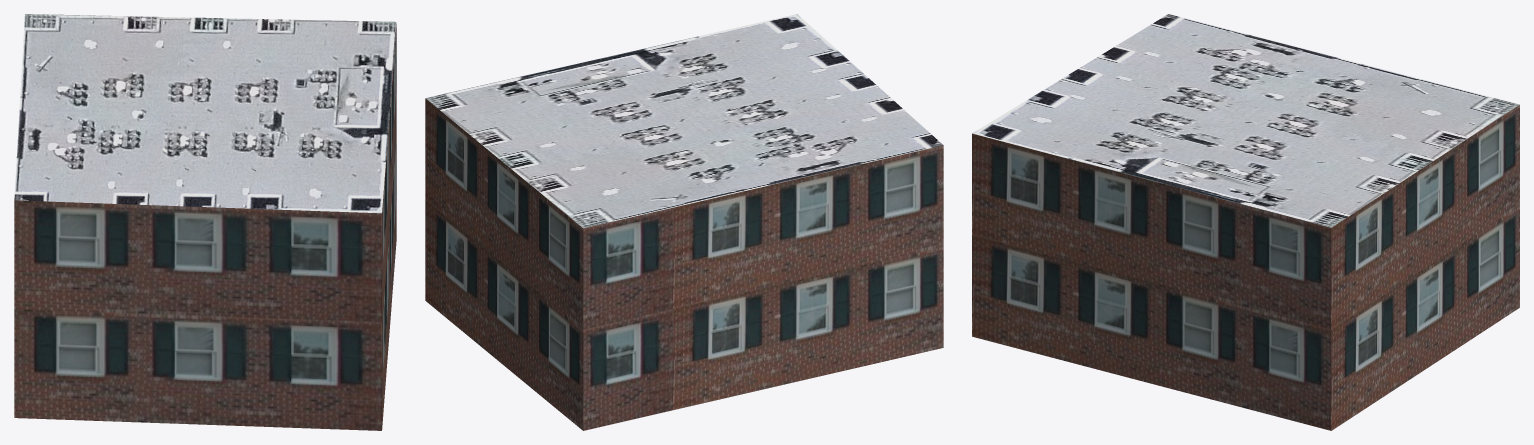
Rendered from ResTex__4563.fbx.
3 renders of one model, left to right at view 1: azimuth 30°, elevation 25°; view 2: azimuth 150°, elevation 25°; view 3: azimuth 270°, elevation 25°, orthographic. The views are drawn at different scales.
Parts seen in each view (by area): view 1: CityEngineMaterial_14_m, CityEngineMaterial_m; view 2: CityEngineMaterial_14_m, CityEngineMaterial_m; view 3: CityEngineMaterial_14_m, CityEngineMaterial_m.
Boxes of the visible parts, x1,y1,x2,y2 form: CityEngineMaterial_14_m: [14, 24, 396, 430]; CityEngineMaterial_m: [14, 14, 396, 213]; CityEngineMaterial_14_m: [425, 98, 943, 430]; CityEngineMaterial_m: [425, 14, 943, 228]; CityEngineMaterial_14_m: [972, 105, 1519, 430]; CityEngineMaterial_m: [972, 14, 1519, 227].
Size of the model in its own units: 13.55 by 6 by 14.67.
2 materials, 2 textured.
